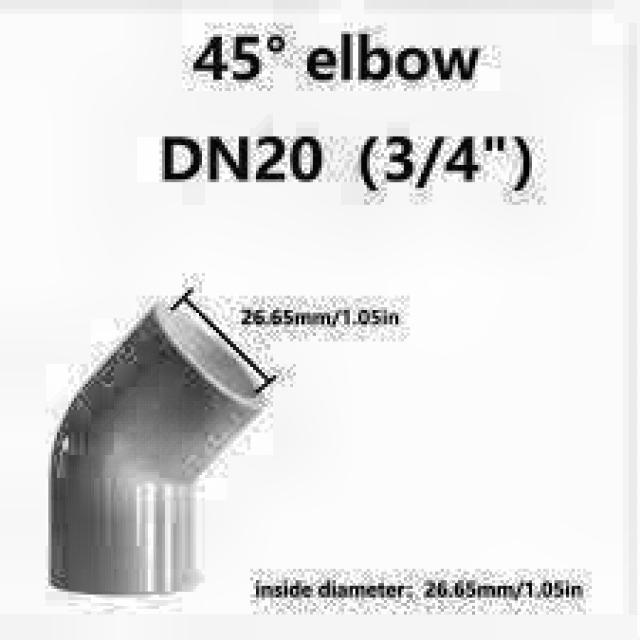ELBOW45: (48, 287, 276, 597)
